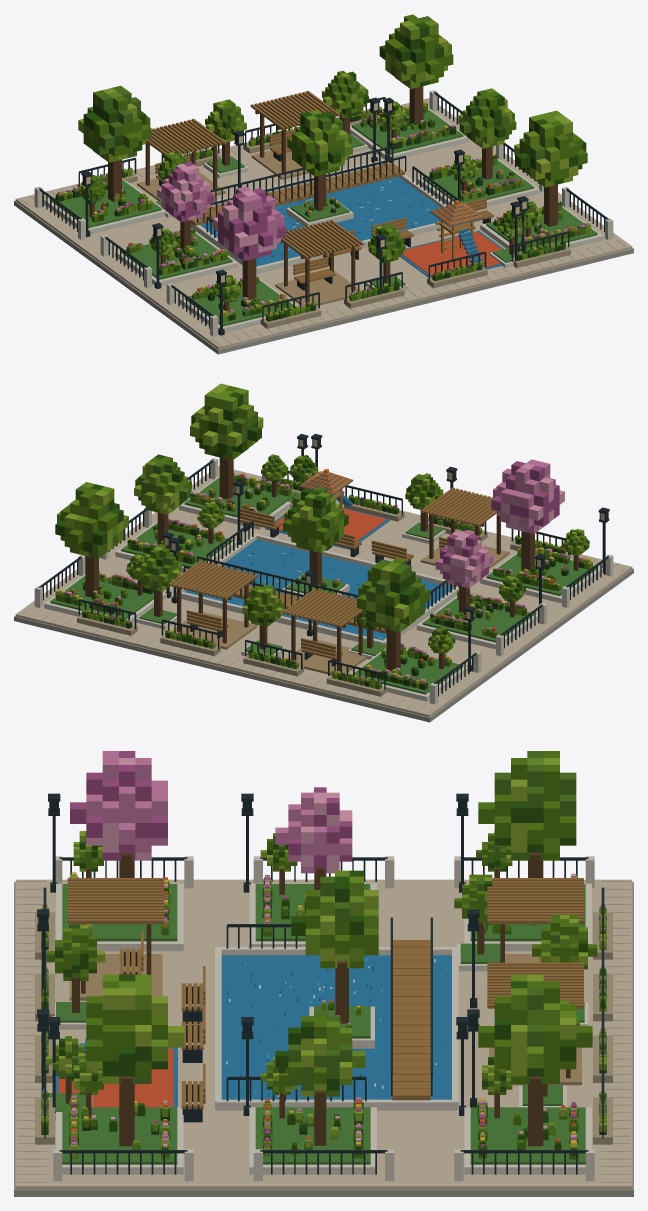
File: SM_Mapa_026.fbx
3 renders of one model, top to bottom at view 1: azimuth 30°, elevation 25°; view 2: azimuth 150°, elevation 25°; view 3: azimuth 270°, elevation 25°, orthographic. The views are drawn at different scales.
Visible parts, largest first — view 1: SM_Mapa_026; view 2: SM_Mapa_026; view 3: SM_Mapa_026.
Part boxes in pixels (bbox=[...]): SM_Mapa_026: bbox=[14, 14, 633, 354]; SM_Mapa_026: bbox=[14, 383, 633, 722]; SM_Mapa_026: bbox=[14, 751, 633, 1196].
Bounding box in the file's own units: 80 × 68 × 21.55.
